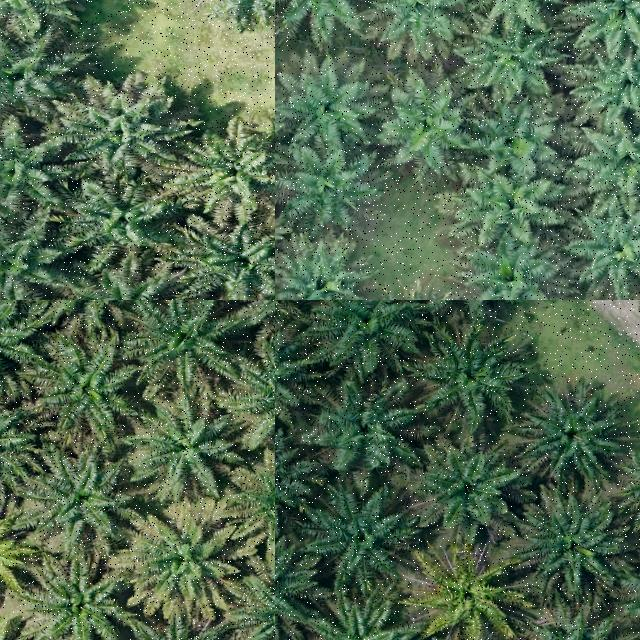Ganoderma: (421, 561, 507, 632), (0, 516, 22, 587)
